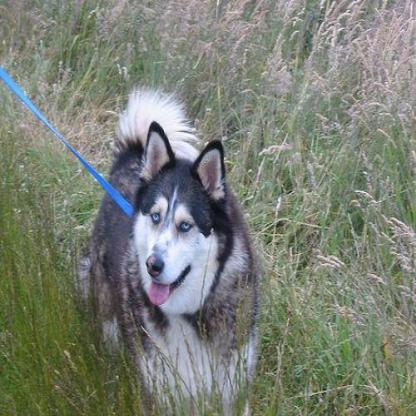Eskimo_dog: (75, 85, 259, 414)
